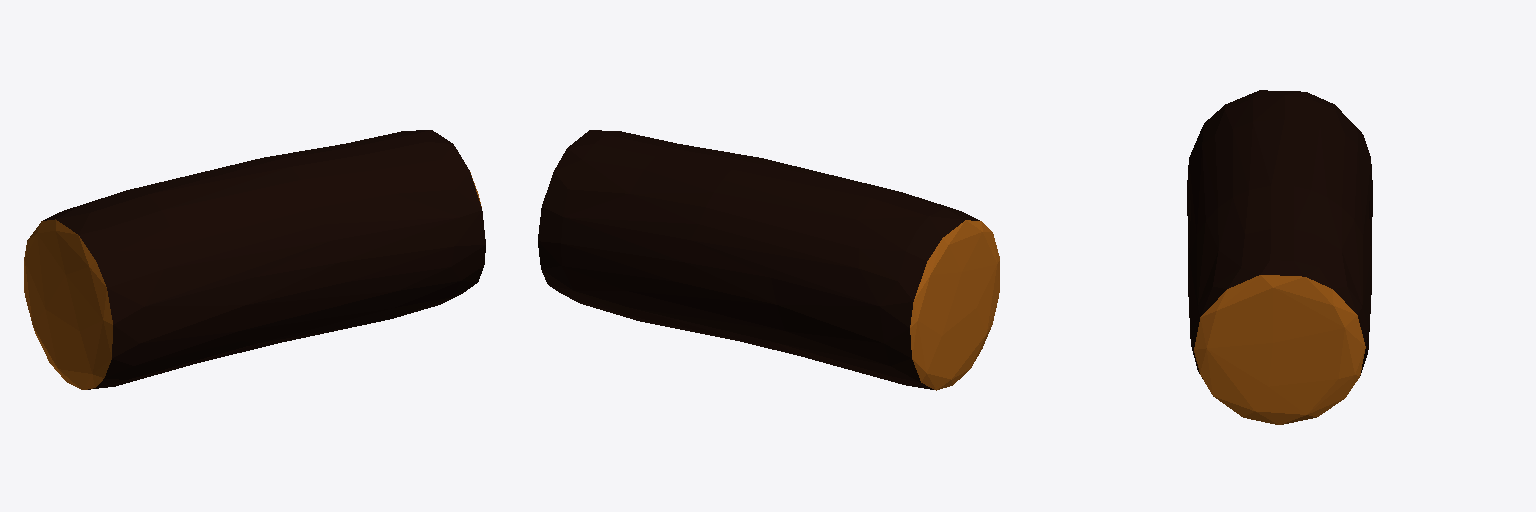
The model's file is FruitwoodLog.obj.
The picture shows the model from 3 angles: view 1: azimuth 30°, elevation 25°; view 2: azimuth 150°, elevation 25°; view 3: azimuth 270°, elevation 25°; orthographic projection.
Parts seen in each view (by area): view 1: Cylinder.003; view 2: Cylinder.003; view 3: Cylinder.003.
Part boxes in pixels (x1,y1,x2,y2): Cylinder.003: (24,130,485,389); Cylinder.003: (538,130,999,390); Cylinder.003: (1187,90,1372,424).
Size of the model in its own units: 0.6768 by 0.2877 by 0.2838.